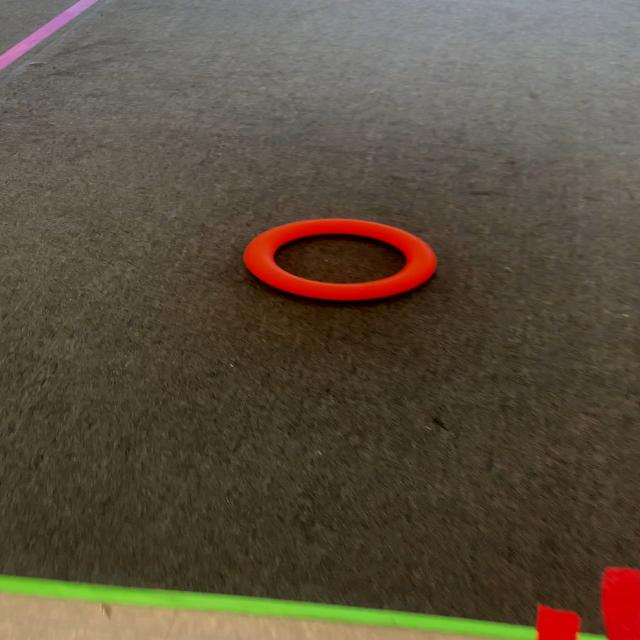notes: (243, 218, 443, 301)
